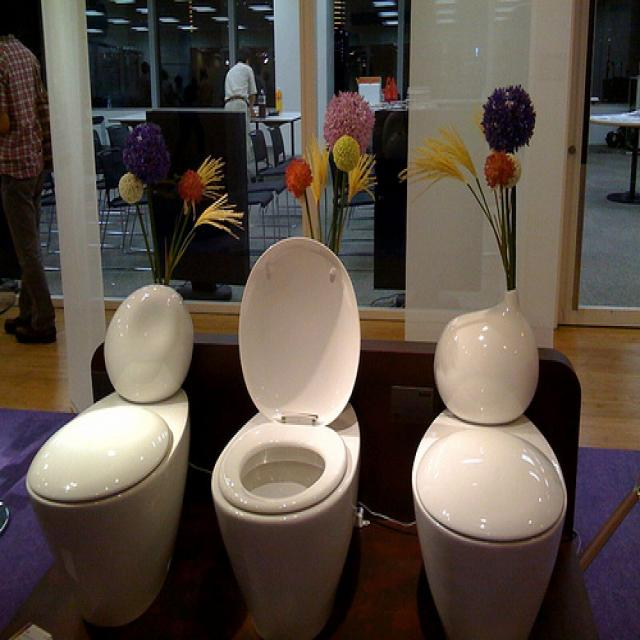chair: (98, 147, 156, 284), (248, 166, 293, 242), (248, 129, 288, 183), (248, 192, 276, 256), (267, 125, 294, 167), (94, 145, 116, 191), (106, 125, 131, 157)
dining table: (110, 118, 147, 123)
